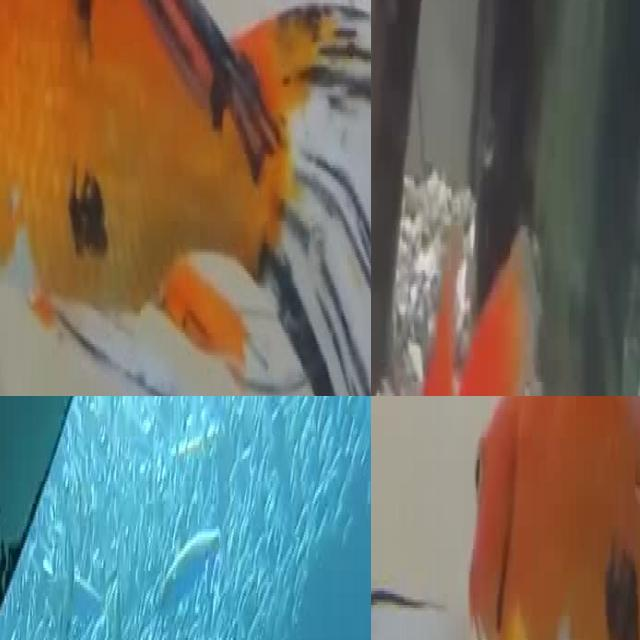fish: (0, 0, 371, 396), (371, 459, 461, 640)
